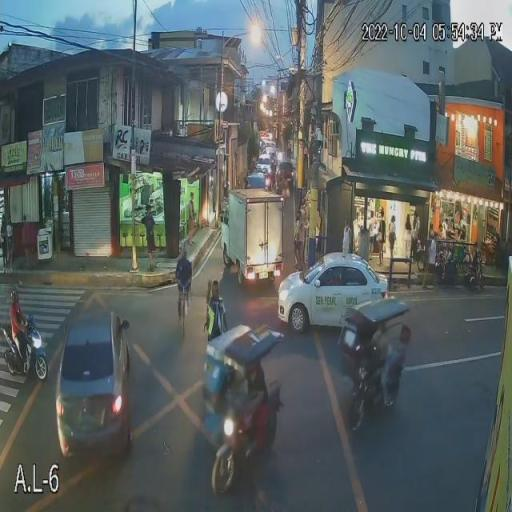helmet: (10, 290, 20, 302)
motorcycle: (199, 322, 285, 496), (336, 300, 411, 432), (0, 316, 48, 382)
rider: (380, 324, 411, 406), (8, 290, 34, 355), (174, 251, 193, 304)
